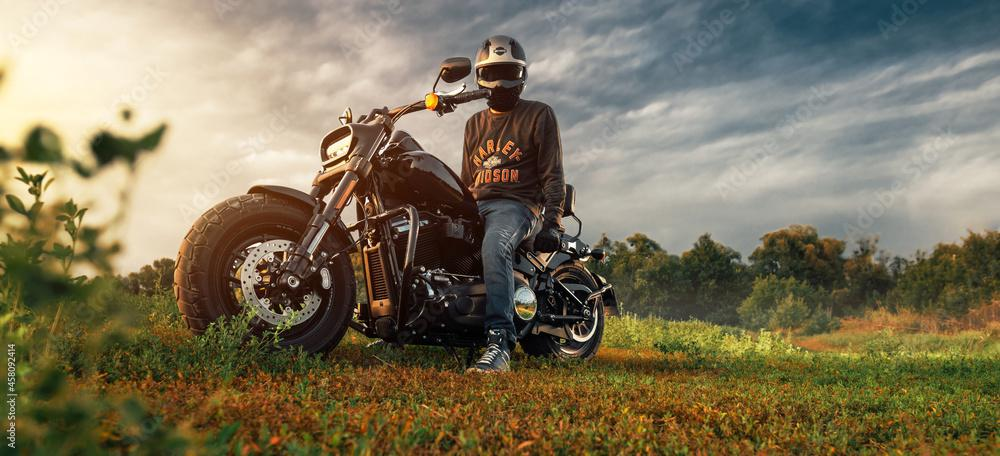helmet: (473, 34, 529, 113)
